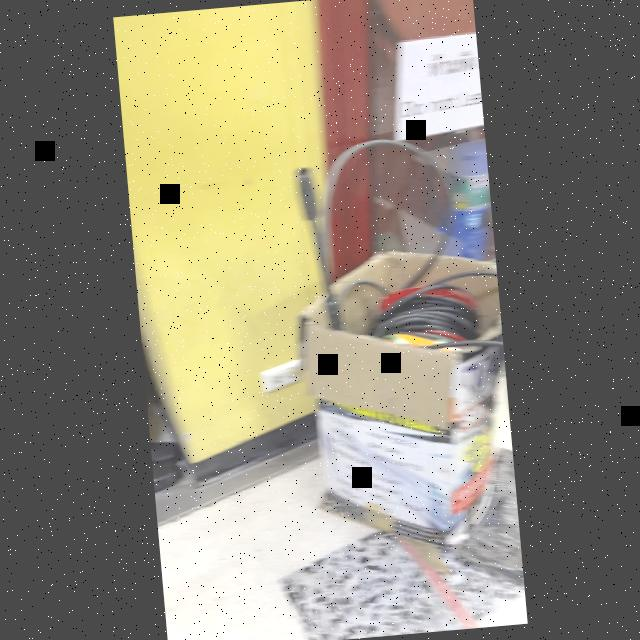cardboard_box: (286, 237, 518, 537)
